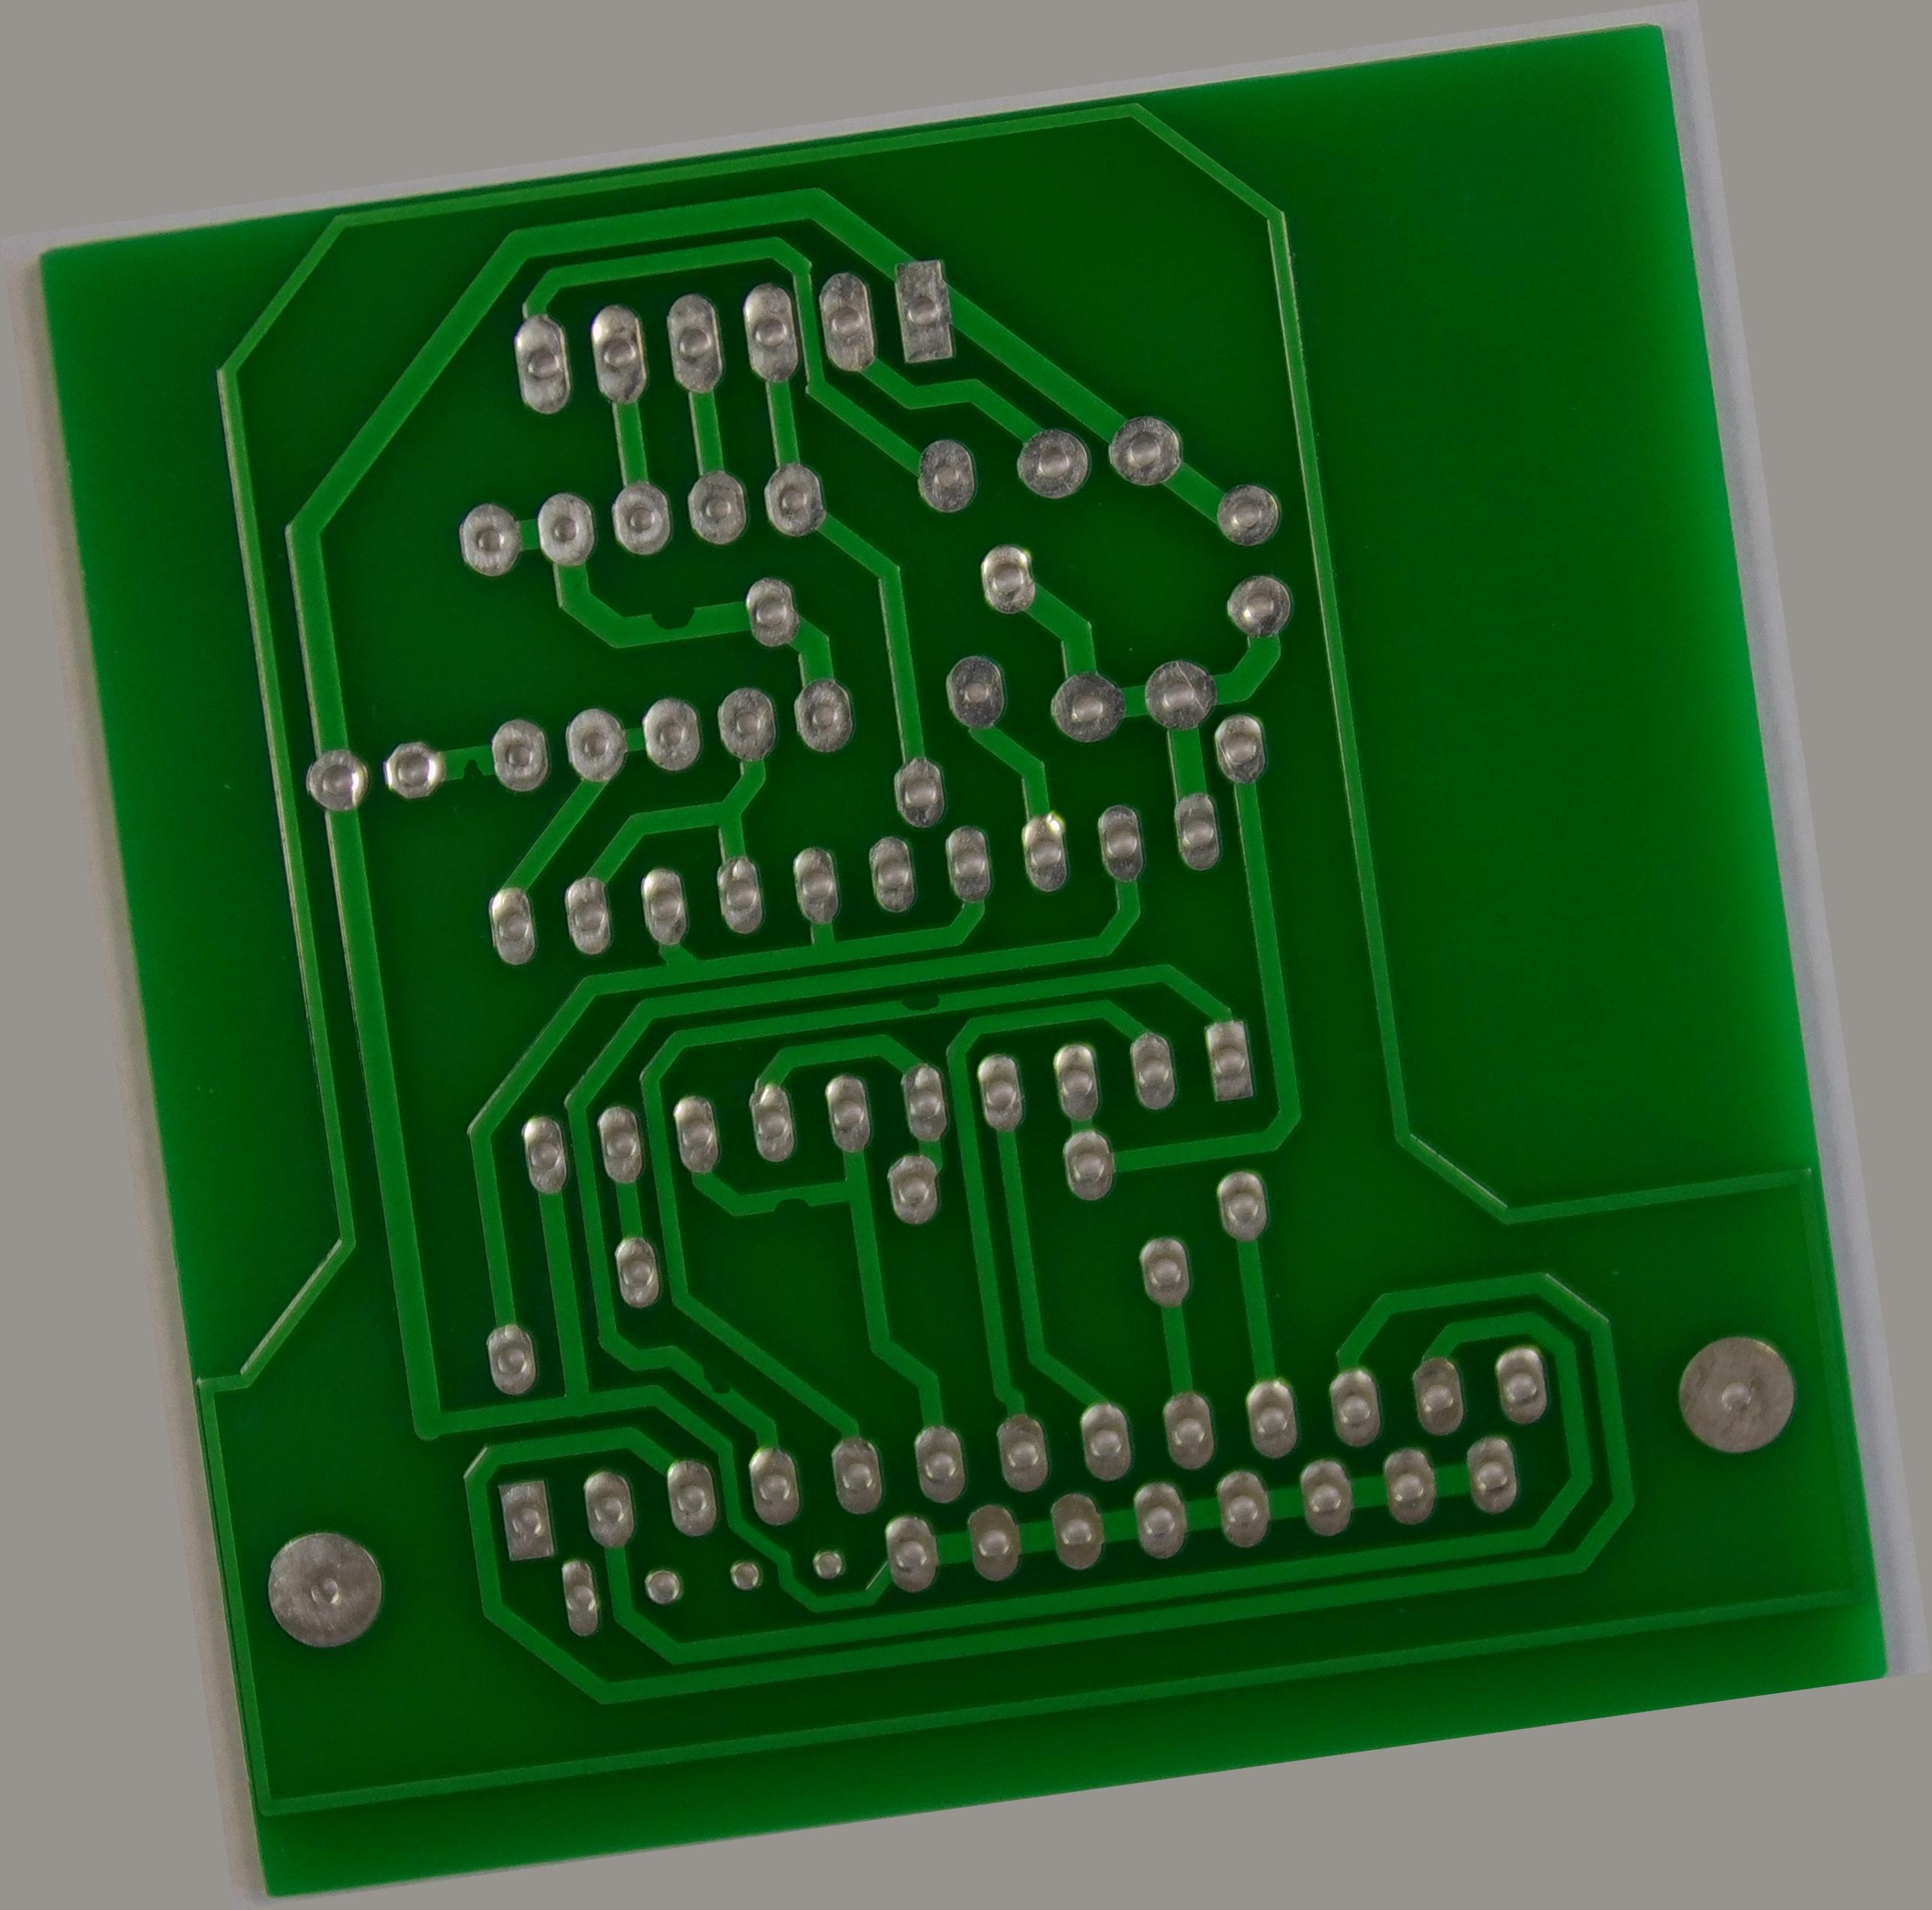mouse_bite: (653, 505, 728, 567), (590, 1366, 660, 1424), (700, 1177, 763, 1233), (418, 628, 467, 698), (870, 978, 940, 1023)
